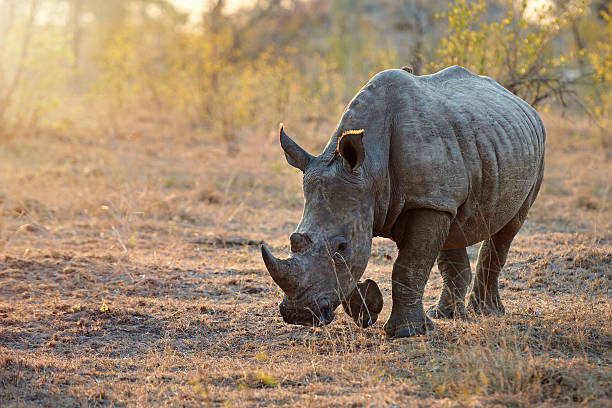rhino: (221, 102, 390, 345)
